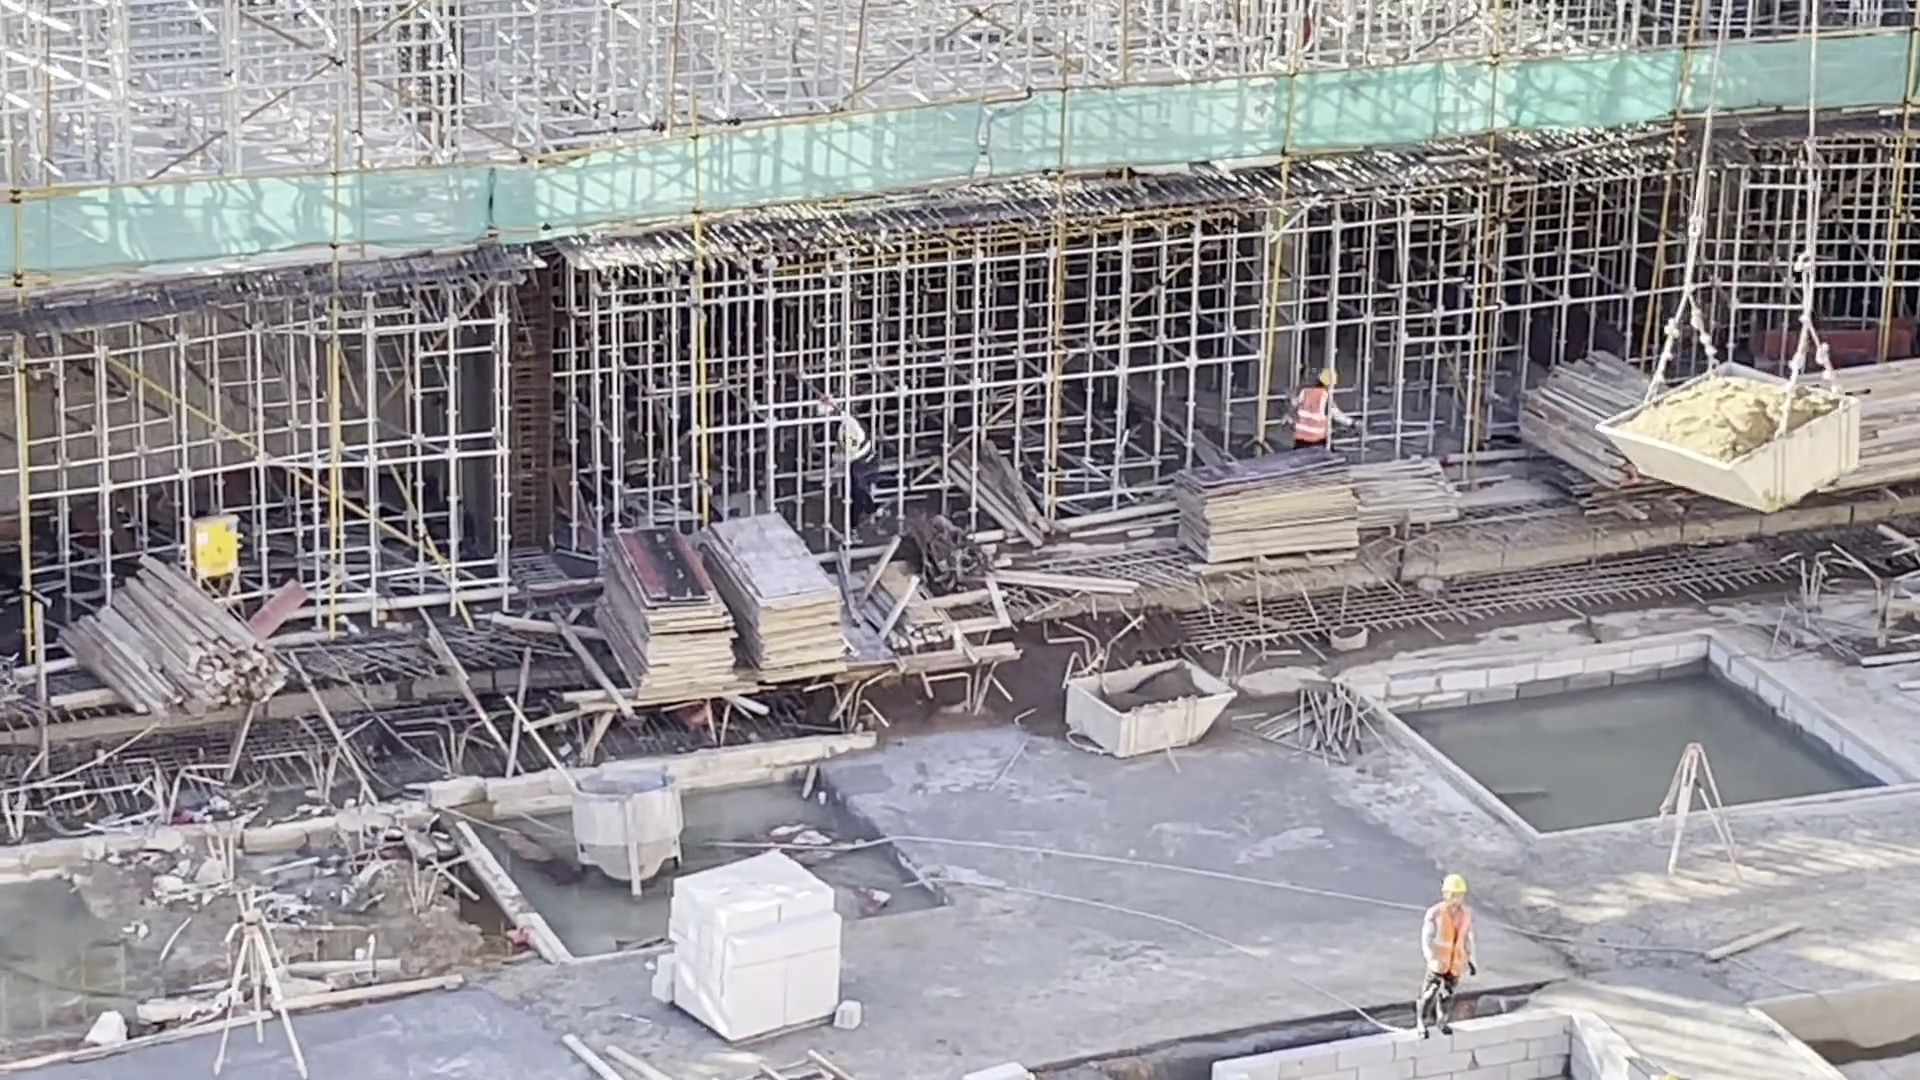board: (584, 528, 744, 711), (692, 509, 852, 686), (1170, 445, 1360, 569)
brick: (657, 848, 867, 1039)
ebox: (185, 502, 241, 585)
hopper: (1581, 358, 1859, 517), (1073, 658, 1241, 761), (560, 764, 685, 900)
person: (1410, 867, 1484, 1037), (844, 418, 883, 519), (1285, 367, 1328, 447)
vest: (1419, 900, 1475, 979), (1287, 388, 1328, 441)
wood: (44, 552, 288, 711), (1514, 352, 1592, 476), (1860, 353, 1920, 496)
